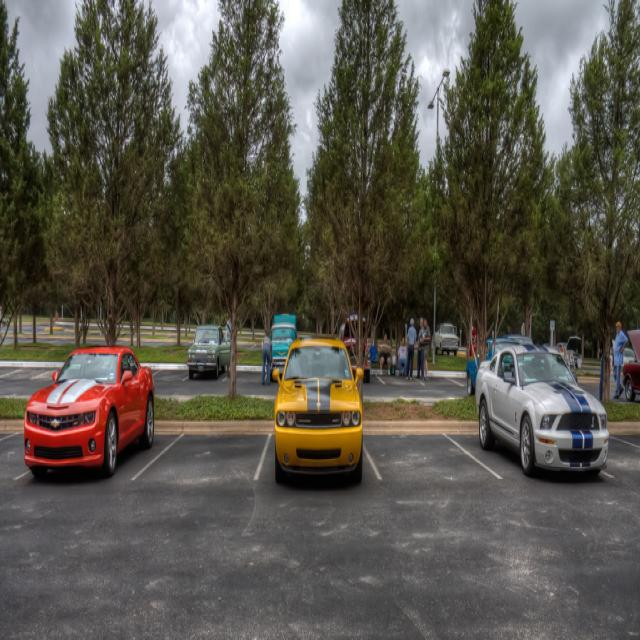car: (479, 341, 607, 487), (20, 342, 157, 476), (269, 327, 364, 486), (465, 341, 512, 395), (188, 324, 228, 373), (266, 312, 297, 364), (622, 325, 639, 397), (432, 314, 460, 349)
